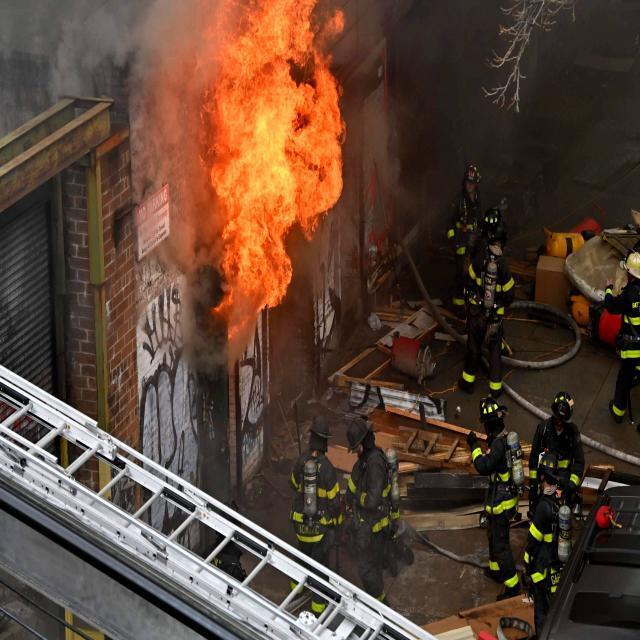Fire: (203, 0, 352, 339)
Smoke: (0, 0, 199, 133)
